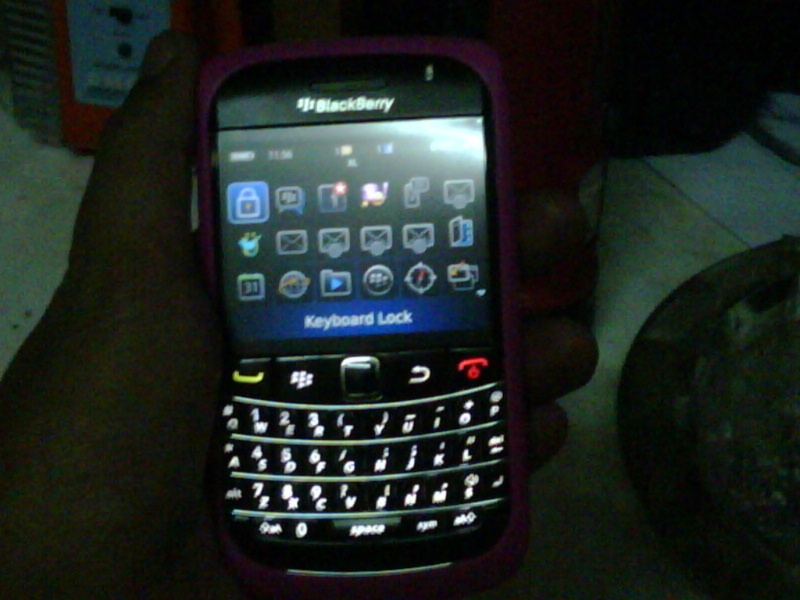cellphone: (182, 30, 537, 592)
